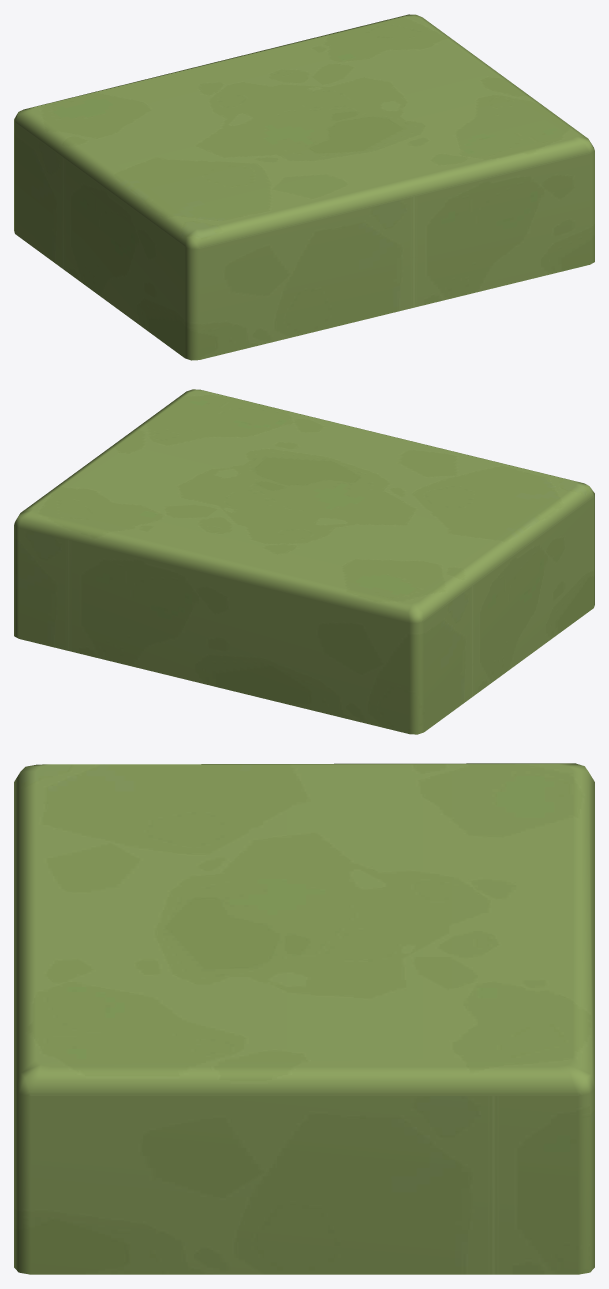
3 views of the same model, one above another, from view 1: azimuth 30°, elevation 25°; view 2: azimuth 150°, elevation 25°; view 3: azimuth 270°, elevation 25° (orthographic). The views are drawn at different scales.
Parts seen in each view (by area): view 1: SM_dikuai-lü; view 2: SM_dikuai-lü; view 3: SM_dikuai-lü.
Boxes of the visible parts, box(x1,y1,x2,y2) form: SM_dikuai-lü: box(14, 14, 594, 360); SM_dikuai-lü: box(14, 389, 594, 734); SM_dikuai-lü: box(14, 763, 594, 1274).
Size of the model in its own units: 17.28 by 4.99 by 13.22.
1 material, 1 textured.
